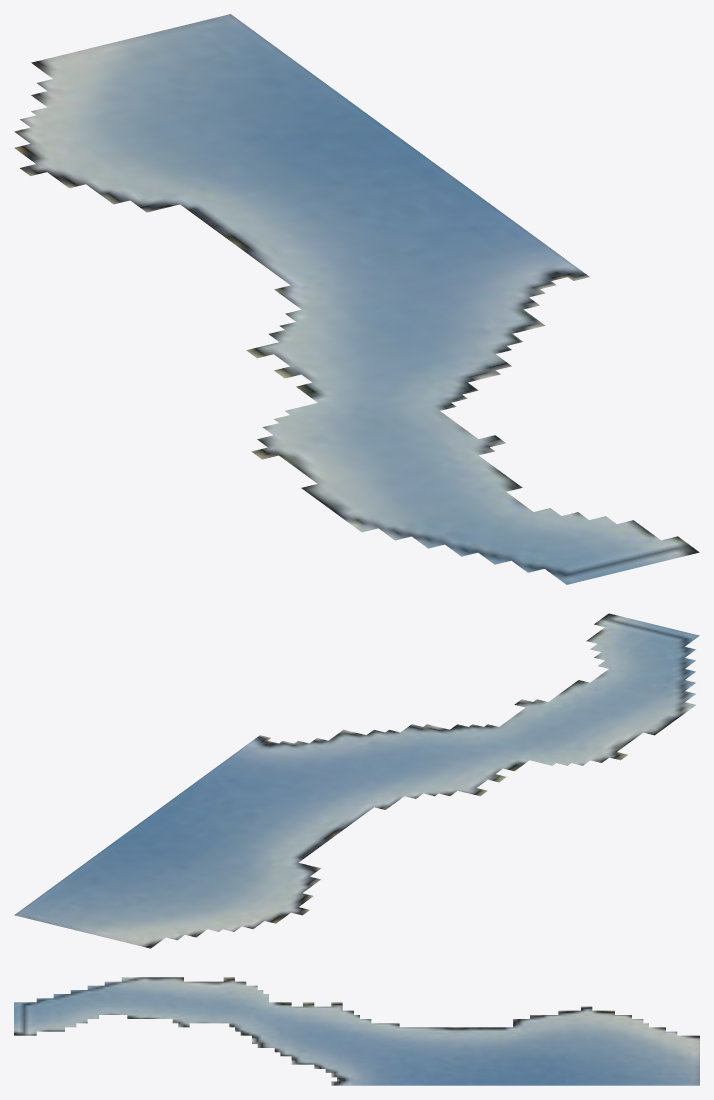
File: mozambique-sea.gltf
3 views of the same model, one above another, from view 1: azimuth 30°, elevation 25°; view 2: azimuth 150°, elevation 25°; view 3: azimuth 270°, elevation 25° (orthographic). The views are drawn at different scales.
Visible parts, largest first — view 1: Plane; view 2: Plane; view 3: Plane.
Part boxes in pixels (bbox=[...]): Plane: bbox=[14, 14, 699, 584]; Plane: bbox=[14, 613, 699, 948]; Plane: bbox=[14, 977, 699, 1085].
Size of the model in its own units: 0.2567 by 0 by 0.6871.
1 material, 1 textured.
